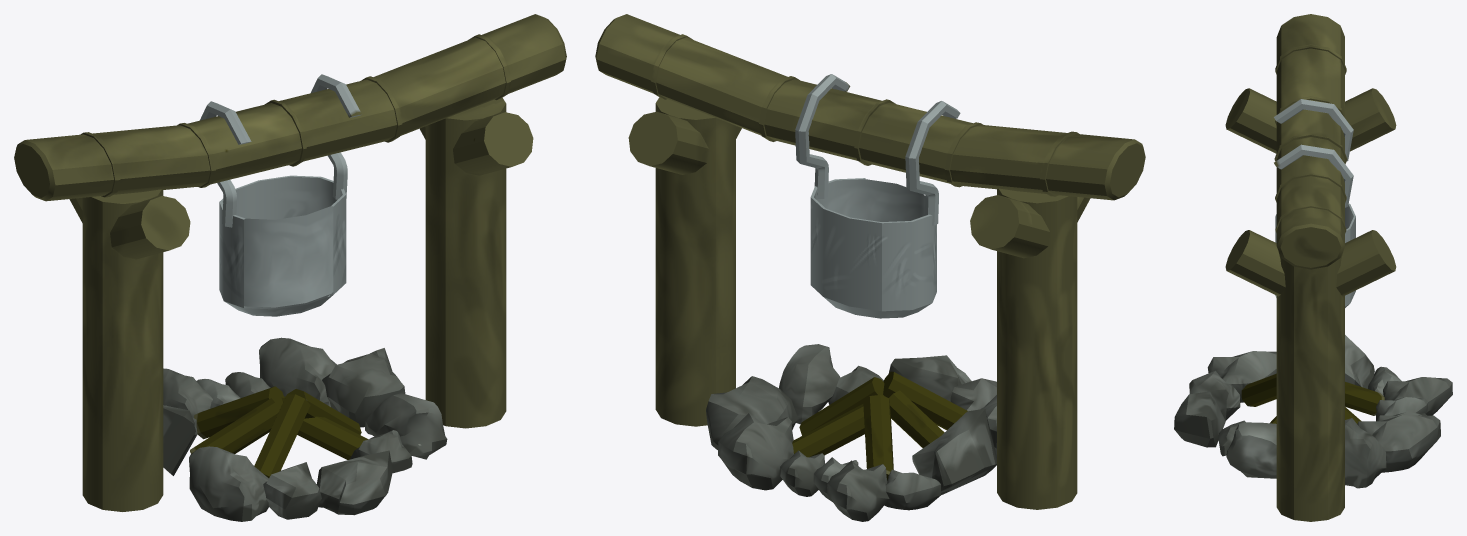
The model's file is FOGATA.fbx.
The picture shows the model from 3 angles, left to right: view 1: azimuth 30°, elevation 25°; view 2: azimuth 150°, elevation 25°; view 3: azimuth 270°, elevation 25°; orthographic projection. The views are drawn at different scales.
Visible parts, largest first — view 1: Poste Vertical.001; view 2: Poste Vertical.001; view 3: Poste Vertical.001.
Boxes of the visible parts, x1,y1,x2,y2 form: Poste Vertical.001: (14, 14, 566, 521); Poste Vertical.001: (595, 14, 1145, 521); Poste Vertical.001: (1174, 14, 1452, 521).
Size of the model in its own units: 284 by 200 by 157.
